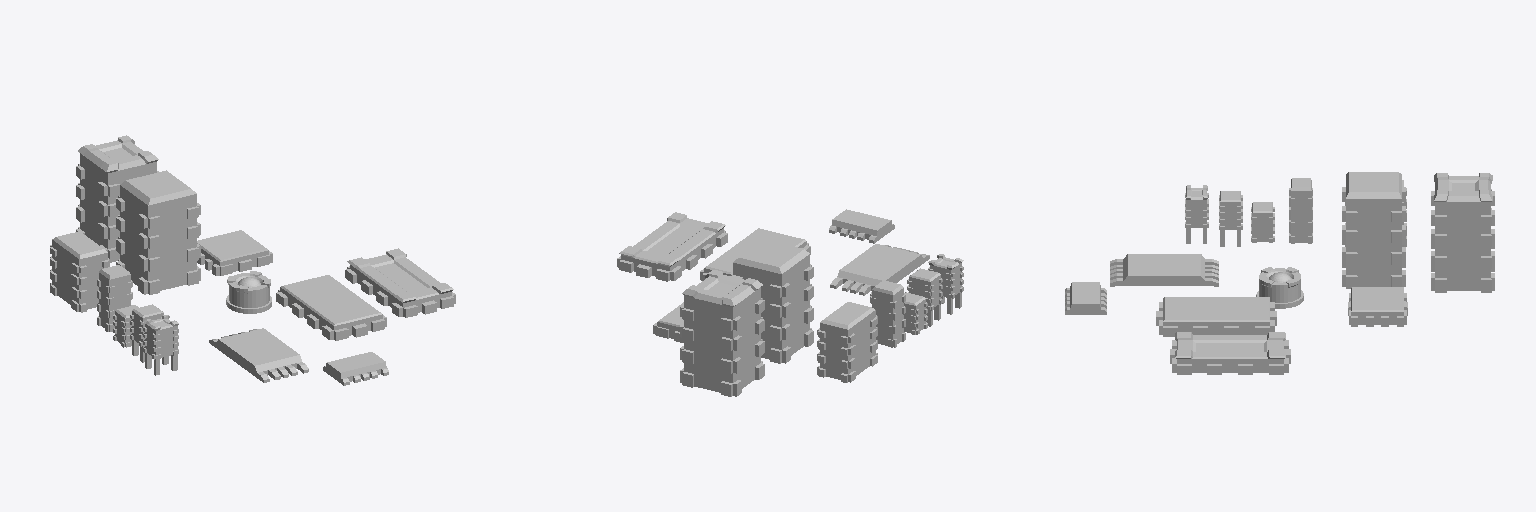
The model's file is CityBuildConcepts.obj.
3 views of the same model, side by side, from view 1: azimuth 30°, elevation 25°; view 2: azimuth 150°, elevation 25°; view 3: azimuth 270°, elevation 25° (orthographic).
Bounding box in the file's own units: 12.21 × 3.91 × 15.28.